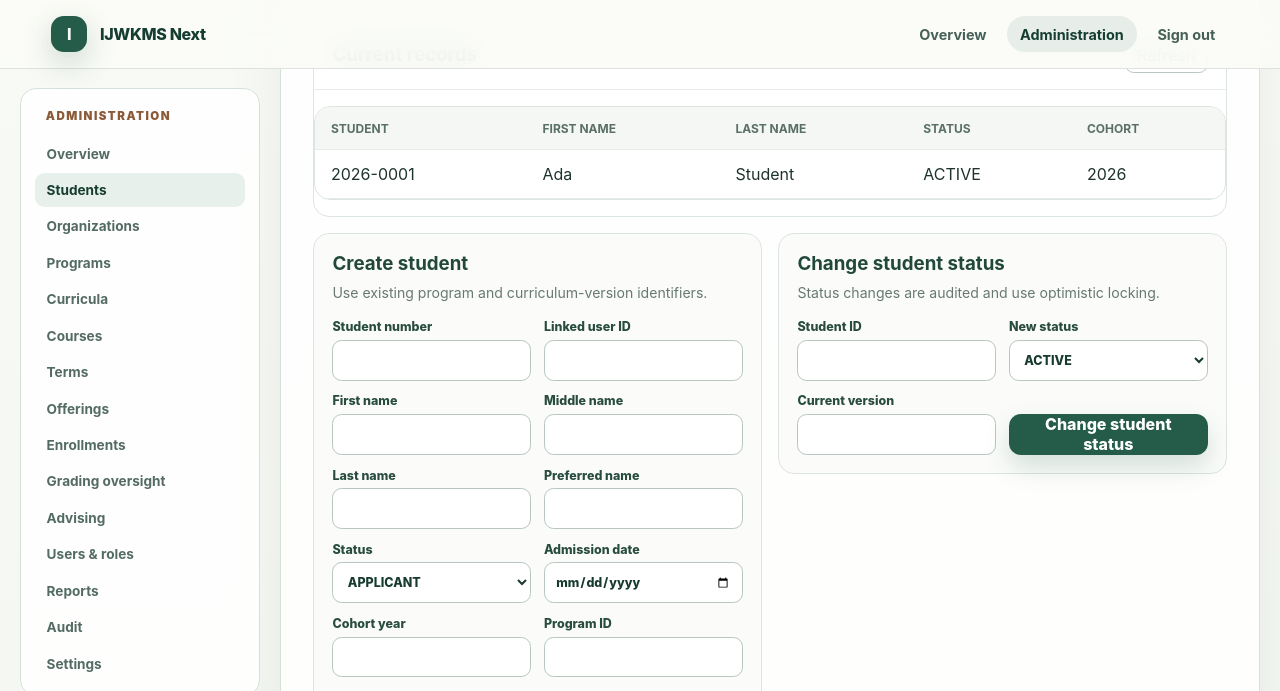
Test case: App › permission-gates every administration workspace and confirms sensitive actions
(page scrolled)
expect the cell "2026-0001" is shown: met, box [315,150,526,198]
Type "student-1" into the field labelled "Student ID" at (897,360), box [797,340,996,381]
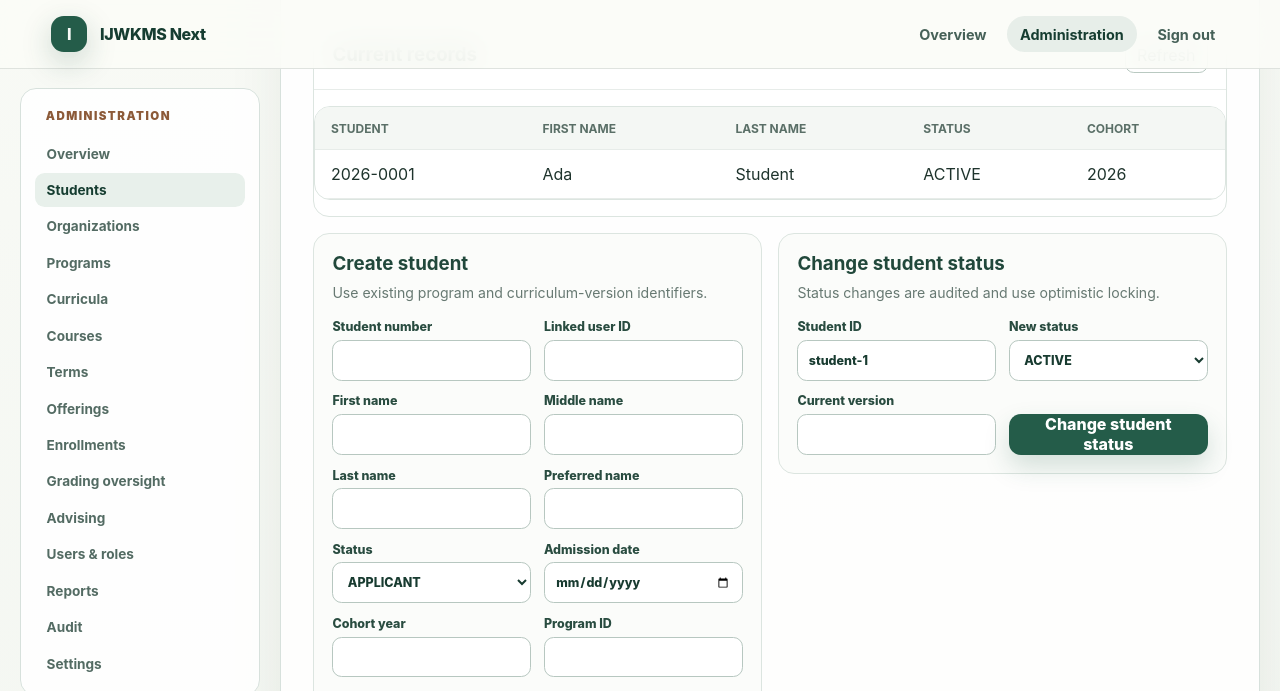
Select "LEAVE" in the dropdown labelled "New status" at (1108,360), box [1009,340,1208,381]
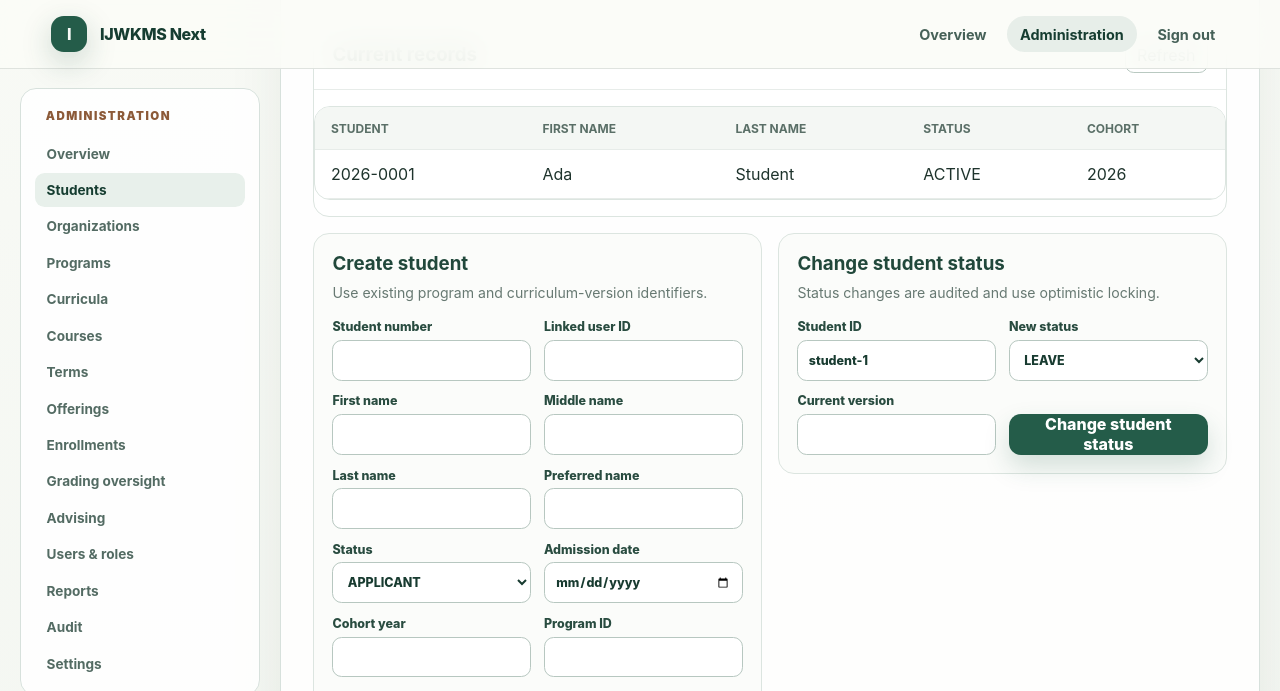
Type "0" into the number field labelled "Current version" at (897,434), box [797,414,996,455]
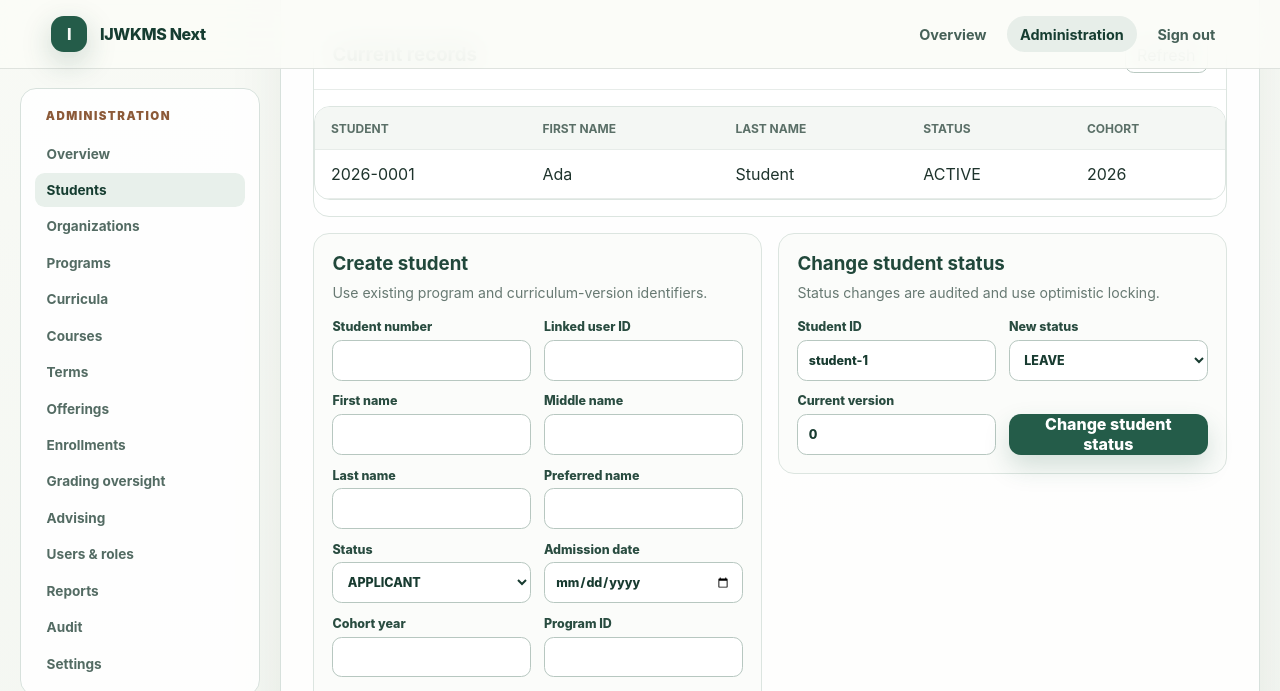
Click the button "Change student status" at (1108,434), box [1009,414,1208,455]
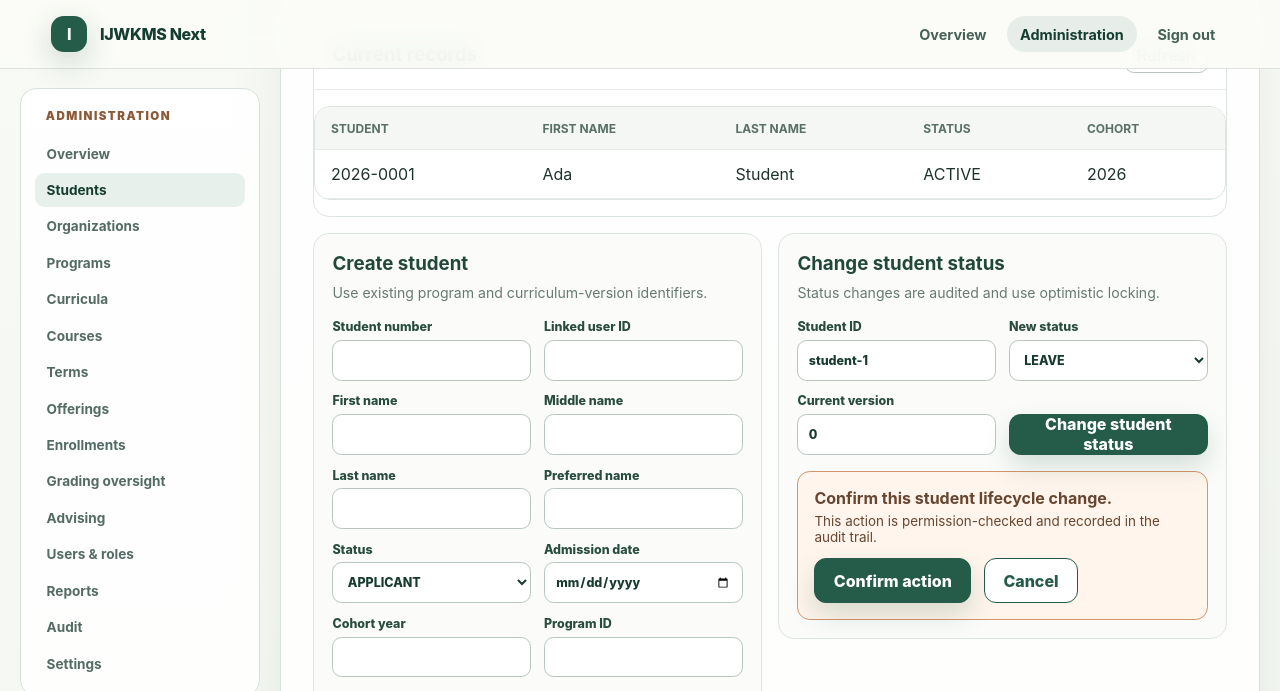
Click the button "Confirm action" at (893,581), box [814,558,971,603]
(page scrolled)
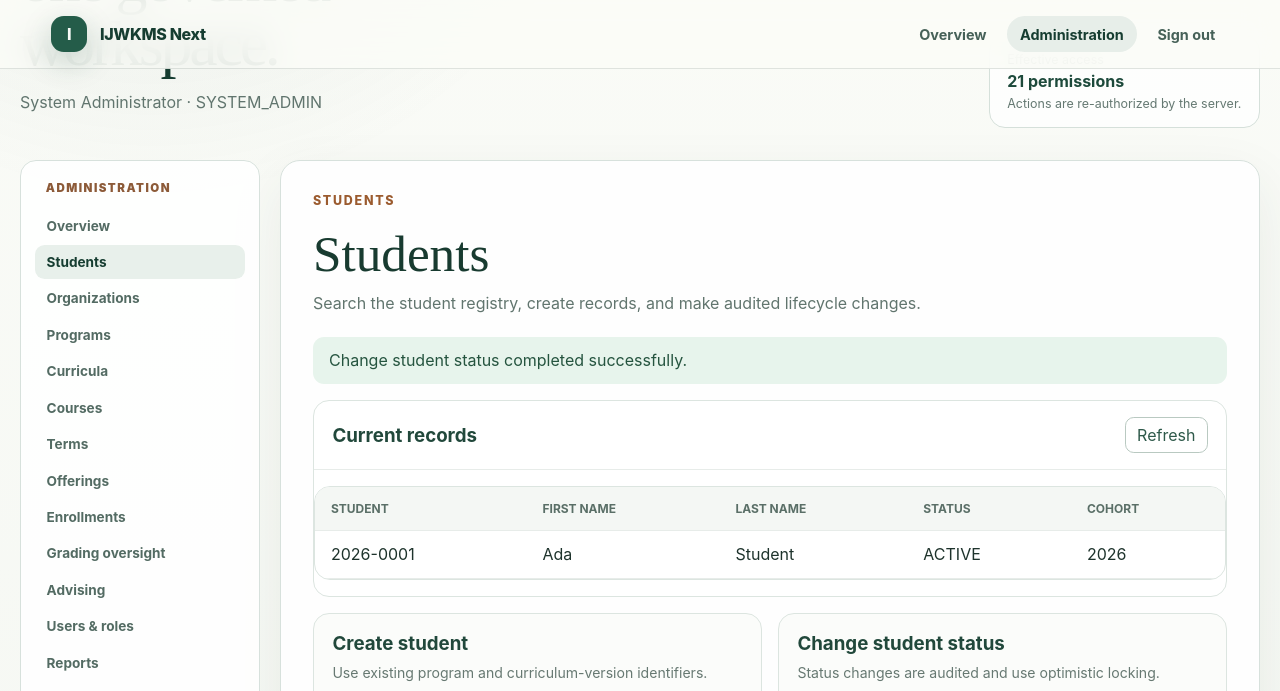
expect the text "Change student status completed successfully." is shown: met, box [313,337,1227,384]
